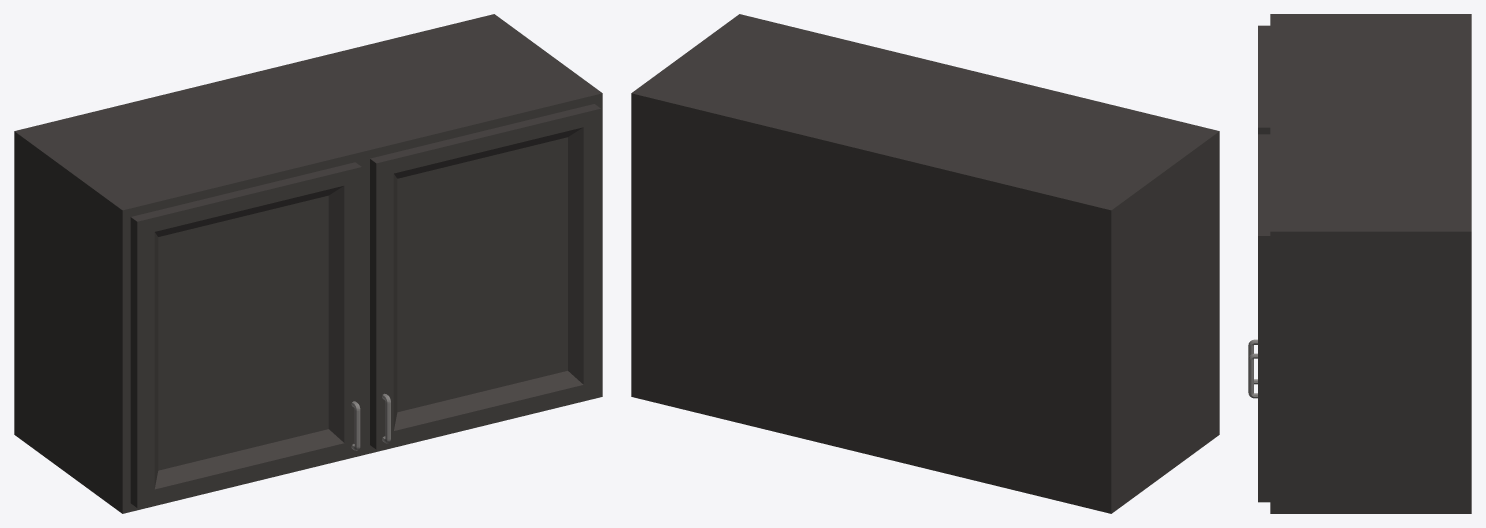
The model's file is Kitchen Tabletop_18.fbx.
The picture shows the model from 3 angles, left to right: view 1: azimuth 30°, elevation 25°; view 2: azimuth 150°, elevation 25°; view 3: azimuth 270°, elevation 25°; orthographic projection. The views are drawn at different scales.
Visible parts, largest first — view 1: Kitchen Tabletop_18; view 2: Kitchen Tabletop_18; view 3: Kitchen Tabletop_18.
Boxes of the visible parts, x1,y1,x2,y2 form: Kitchen Tabletop_18: (14, 14, 602, 513); Kitchen Tabletop_18: (631, 14, 1219, 513); Kitchen Tabletop_18: (1248, 14, 1471, 513).
Bounding box in the file's own units: 99.38 × 60.04 × 43.01.
